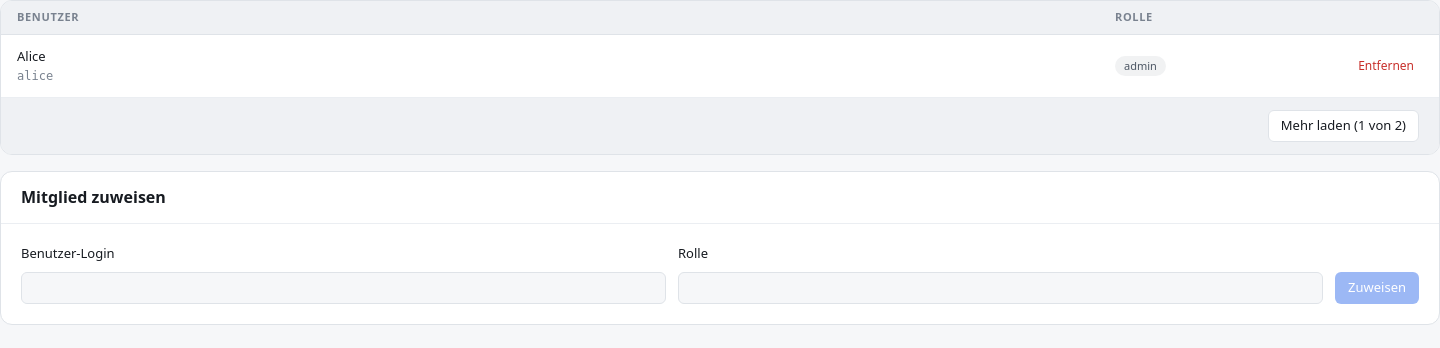
Test case: WorkspaceMembers › resets to the first page after a mutation (no accumulated leak)
This screenshot has width=1440, height=348.
What coordinates should you click on to do the following:
click the button "Mehr laden (1 von 2)"
I would click on:
 (1343, 126)
Its box is [1268,110,1419,142].
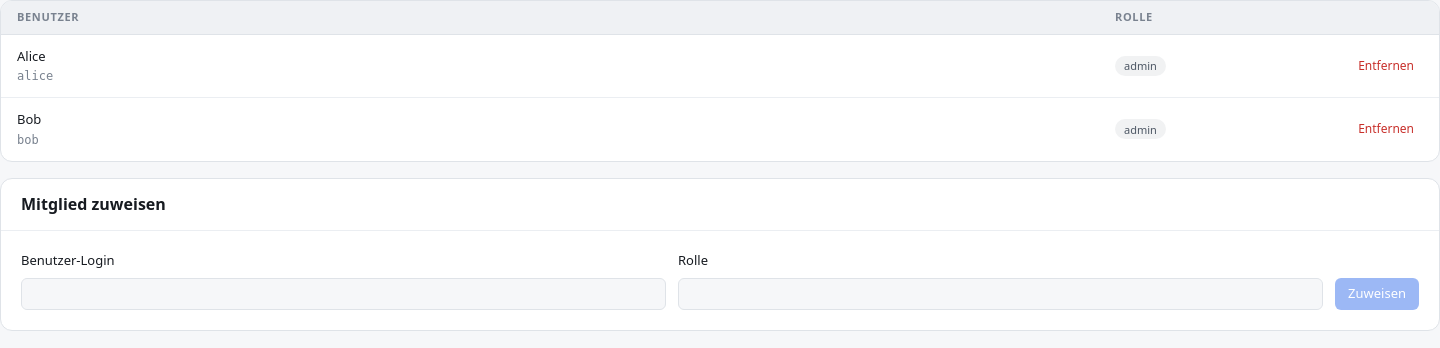
Check: the text "bob" is shown, box [17,132,39,146]
What coordinates should you click on to do the following:
click the 1st button with class "is-danger-ghost"
I would click on:
 (1386, 66)
Its box is [1349,53,1423,79].
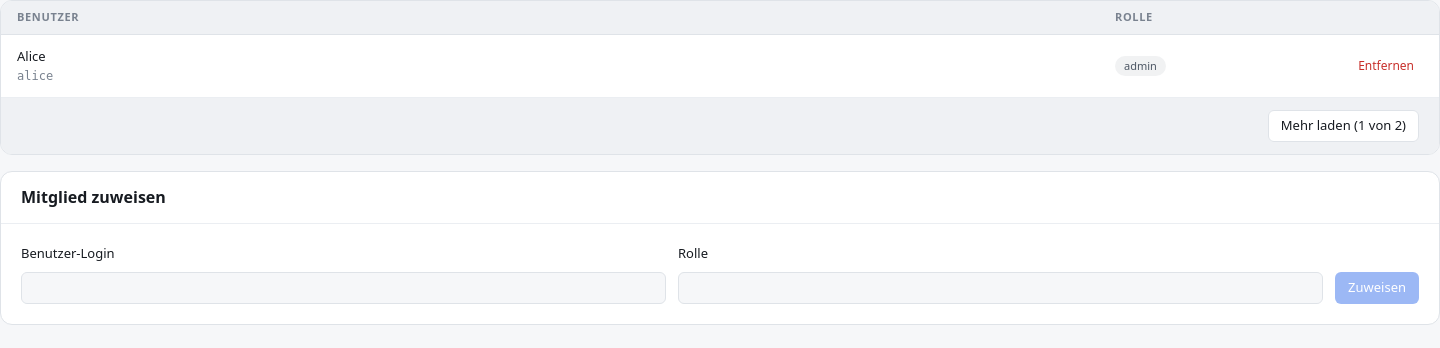
Check: the text "alice" is shown, box [17,69,53,83]
Check: the text "bob" is gone
